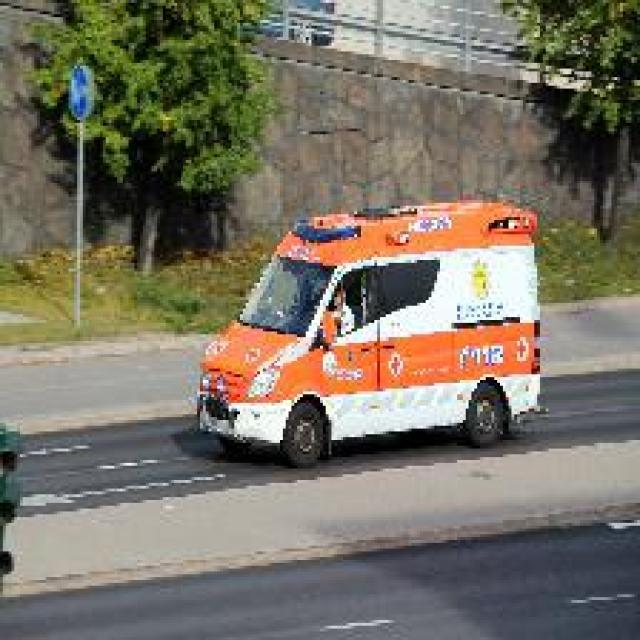emergency: (188, 196, 562, 454)
